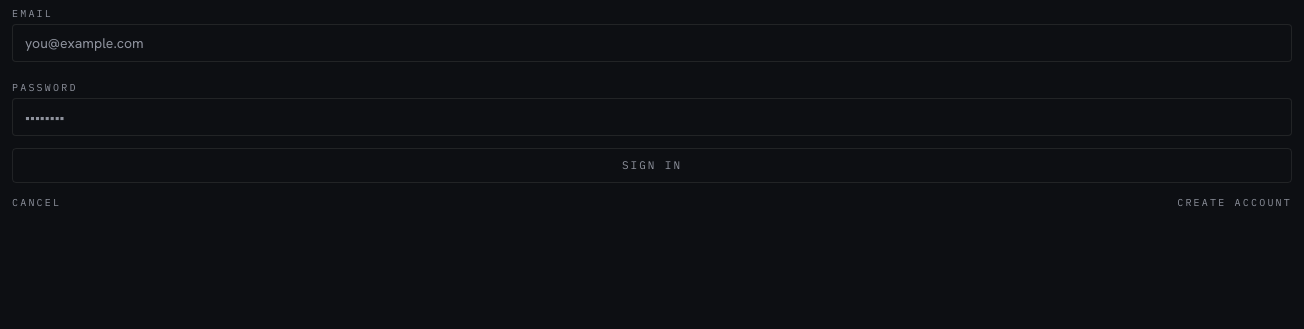
Test: EmailAuthForm › sign-up submit › displays error on sign-up failure
Click the button "Create account" at x=1235, y=202, box [1177,194,1292,210]
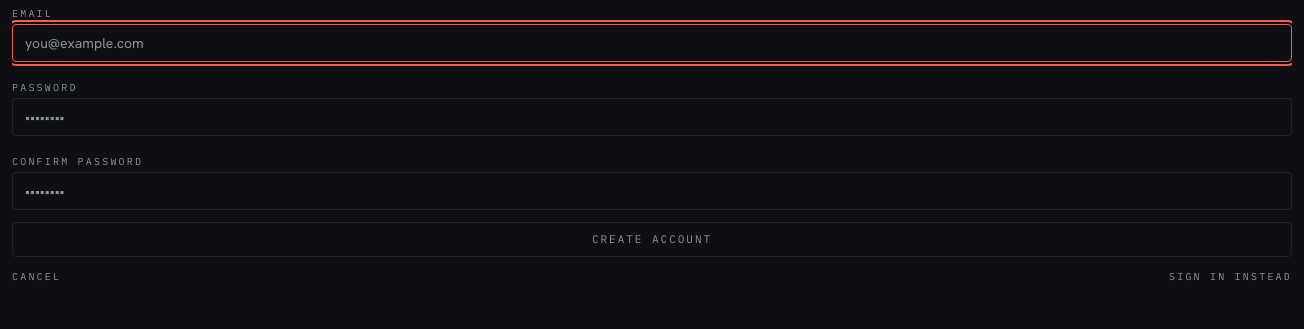
Type "new@example.com" into the field labelled "Email" at x=652, y=43, box [12,24,1292,62]
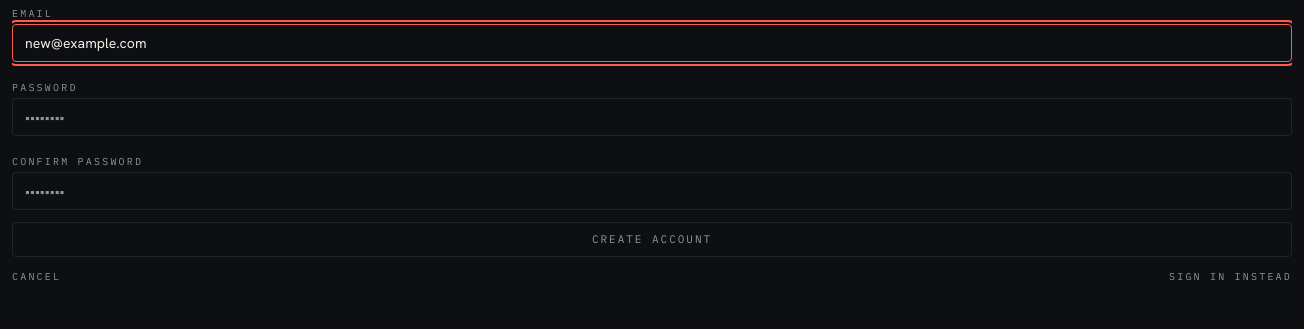
Type "password123" into the password field labelled "Password" at x=652, y=117, box [12,98,1292,136]
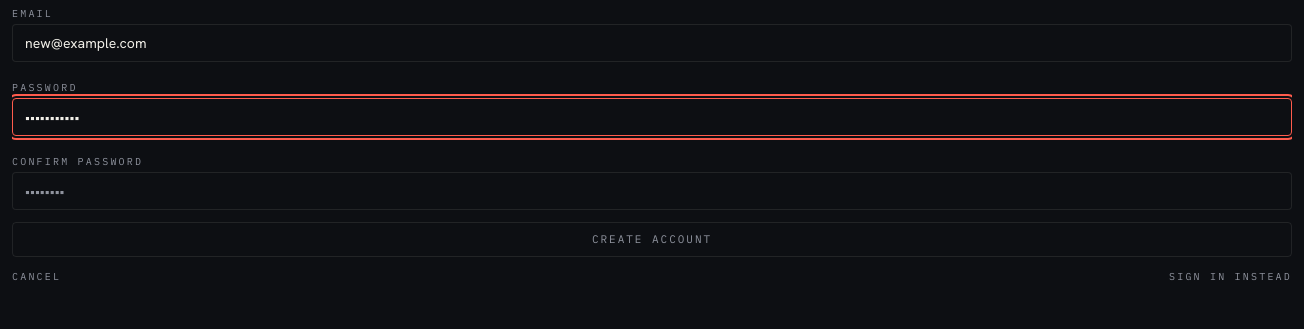
Type "password123" into the password field labelled "Confirm password" at x=652, y=191, box [12,172,1292,210]
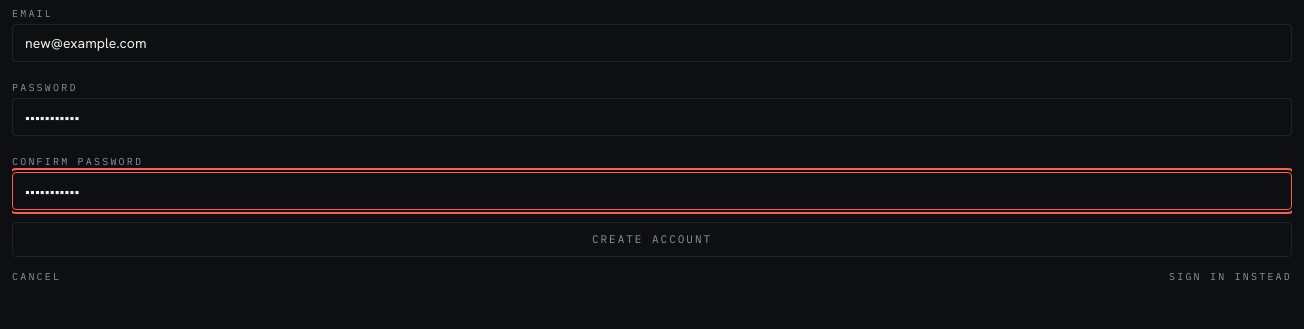
Click the button "Create account" at x=652, y=239, box [12,222,1292,256]
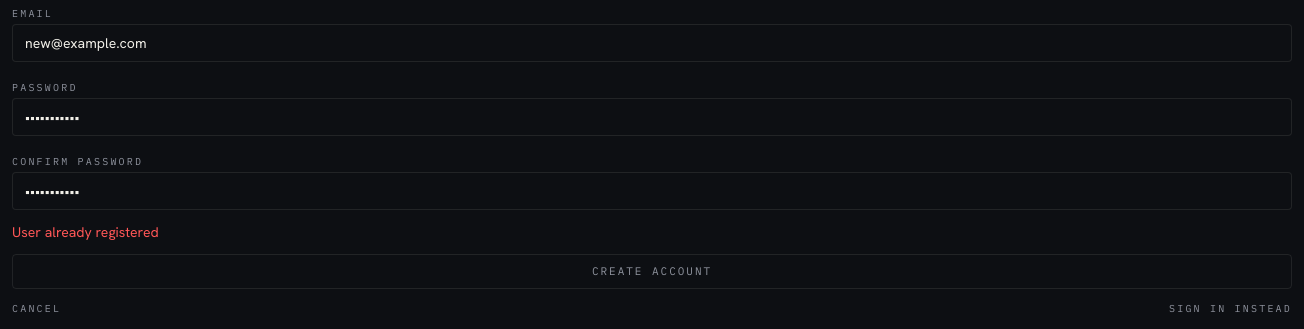
Result: the text "User already registered" is shown at [12,223,159,241]
